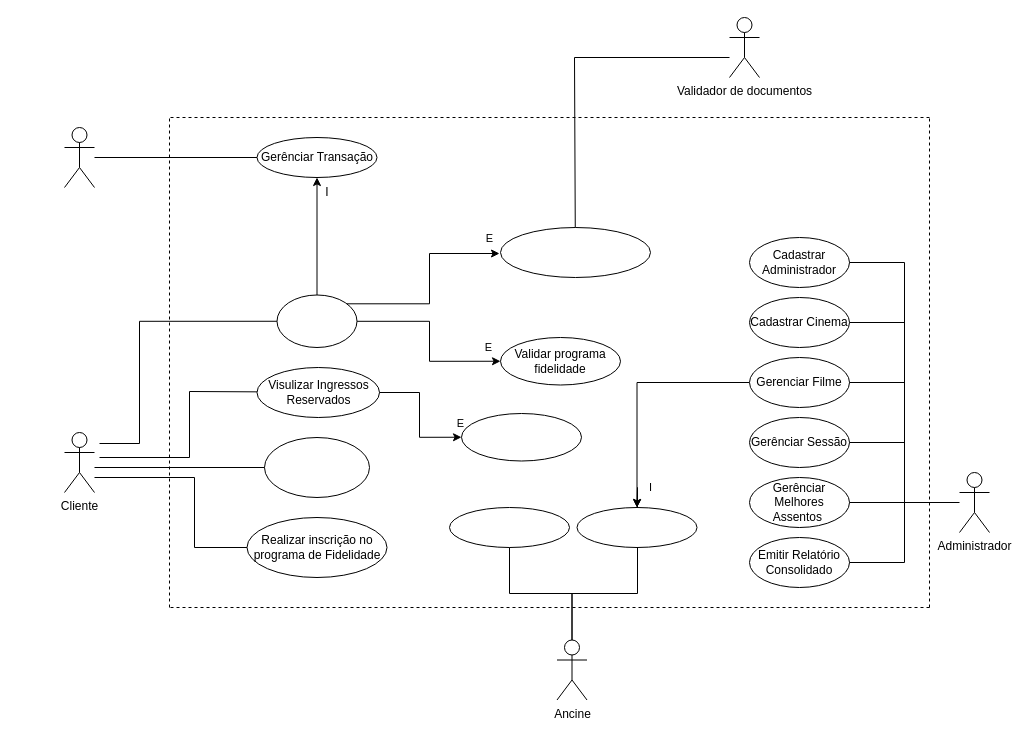
This 1029x738 diagram has some shape labels left out. The centre of each missing label's shape, as x and y in pixels:
"Cadastrar-se" belongs at (317,467).
"Exportar Ingresso" belongs at (521,436).
"Listar Filmes" belongs at (636,527).
"Receber Relatórios" belongs at (509,527).
"Reservar Ingresso" belongs at (316,321).
"Sistema de Pagamento" belongs at (79,157).
"Validar documento de meia-entrada" belongs at (575,252).
